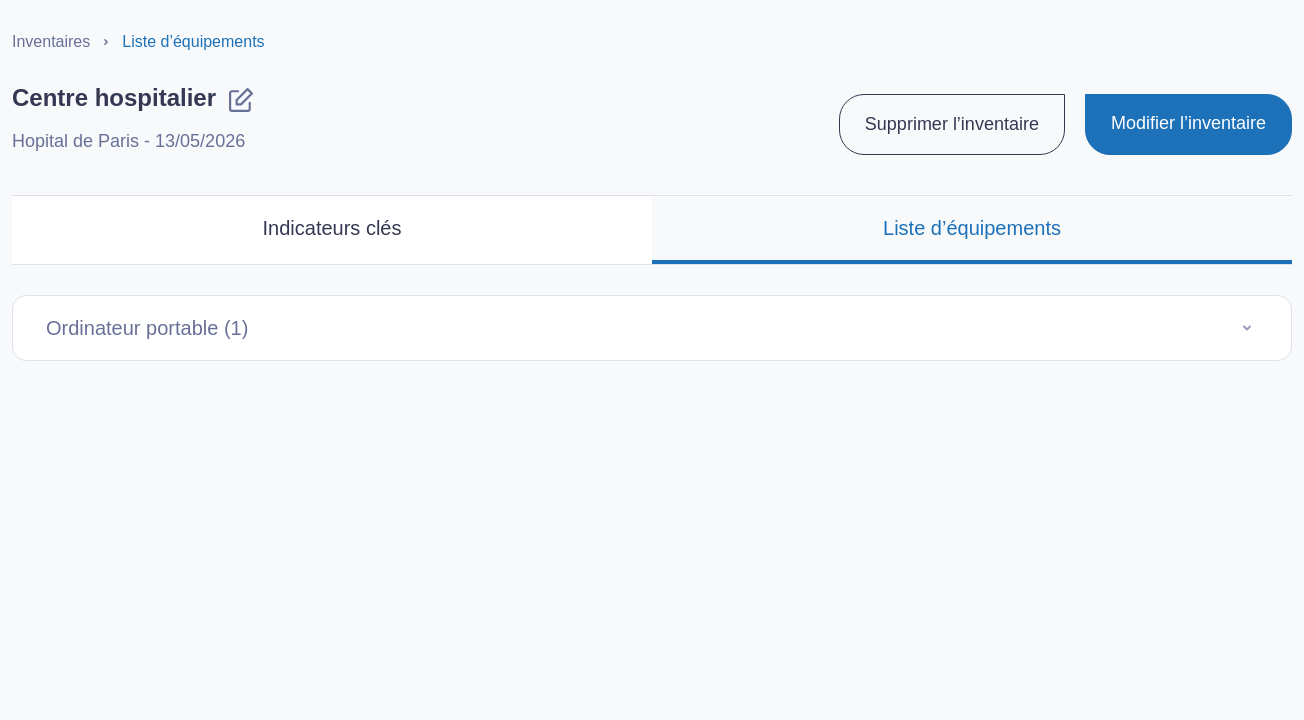
page liste d’équipements › en tant qu’utilisateur › quand je clique sur un type d’équipement alors j’affiche la liste de modèles
The image size is (1304, 720).
Click the tab "Ordinateur portable (1)": (147, 328) [12,295,1292,361]
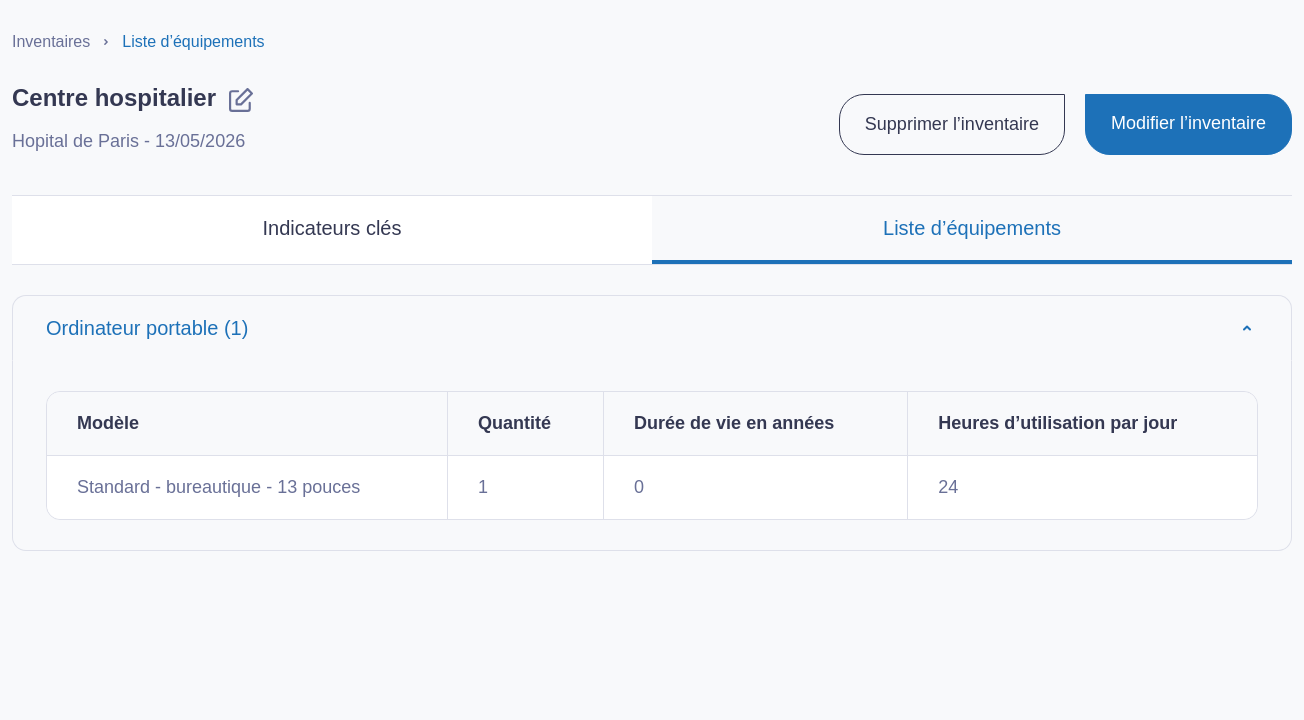
Expected: the cell "Standard - bureautique - 13 pouces" is shown, [47,455,447,519]
Expected: the cell "1" is shown, [447,455,603,519]
Expected: the cell "0" is shown, [603,455,907,519]
